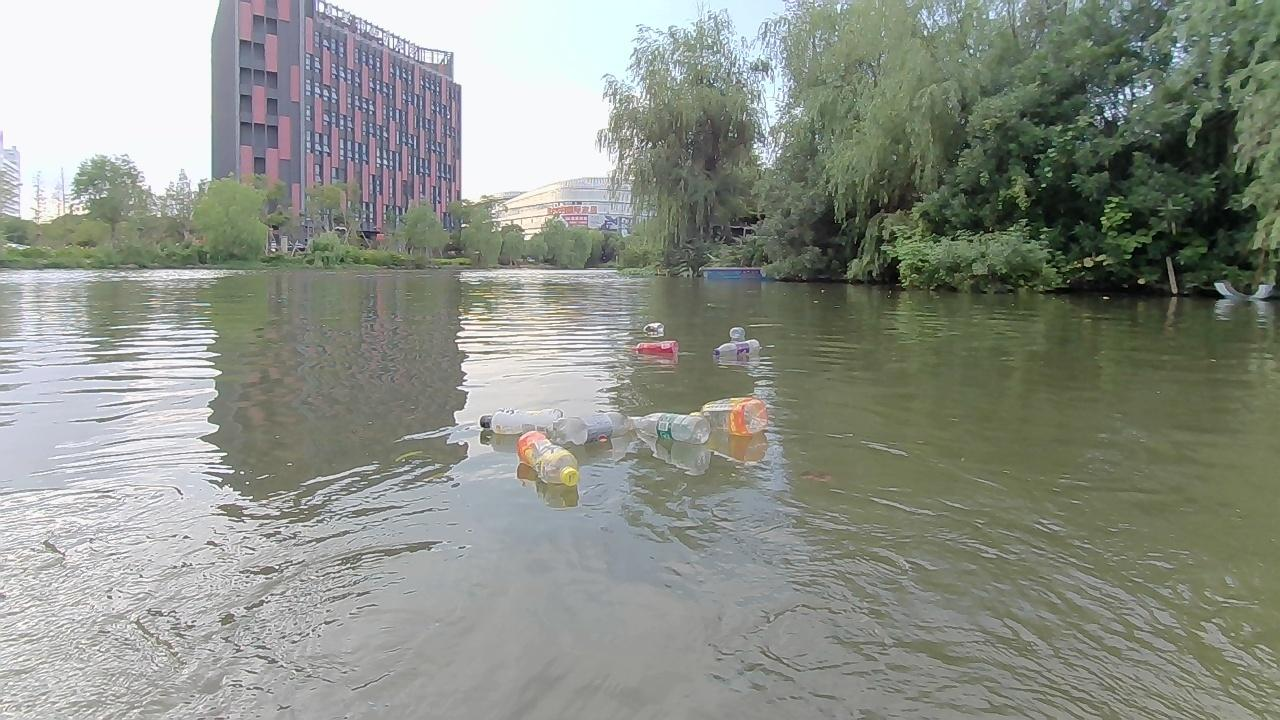bottle: (510, 430, 588, 497), (688, 393, 772, 439), (622, 407, 706, 452), (473, 403, 562, 435), (545, 413, 623, 443), (715, 340, 761, 359), (634, 337, 676, 357), (641, 321, 661, 335), (726, 324, 740, 340)
